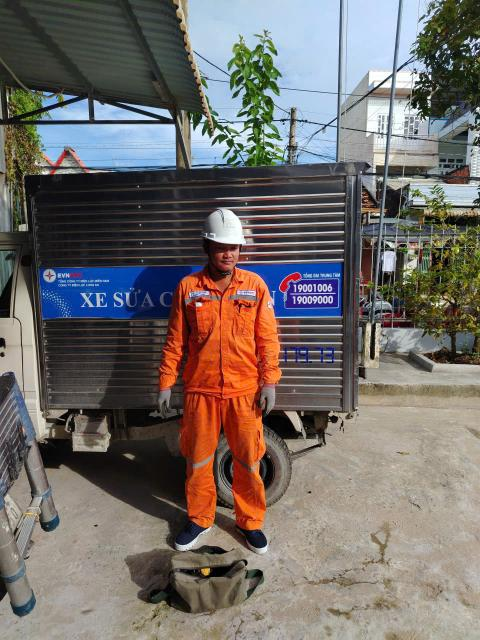gloves: (148, 381, 184, 420), (258, 381, 277, 423)
helmet: (206, 204, 261, 258)
shoes: (158, 516, 213, 562), (226, 515, 275, 565)
